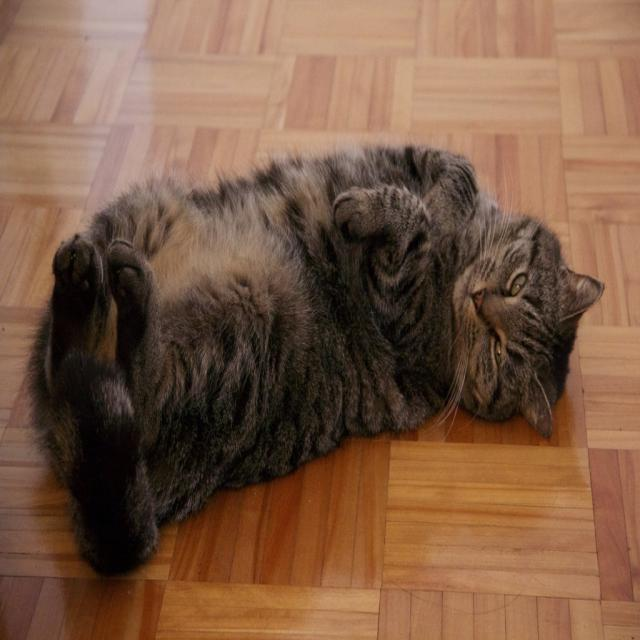Cat: (23, 134, 604, 578)
